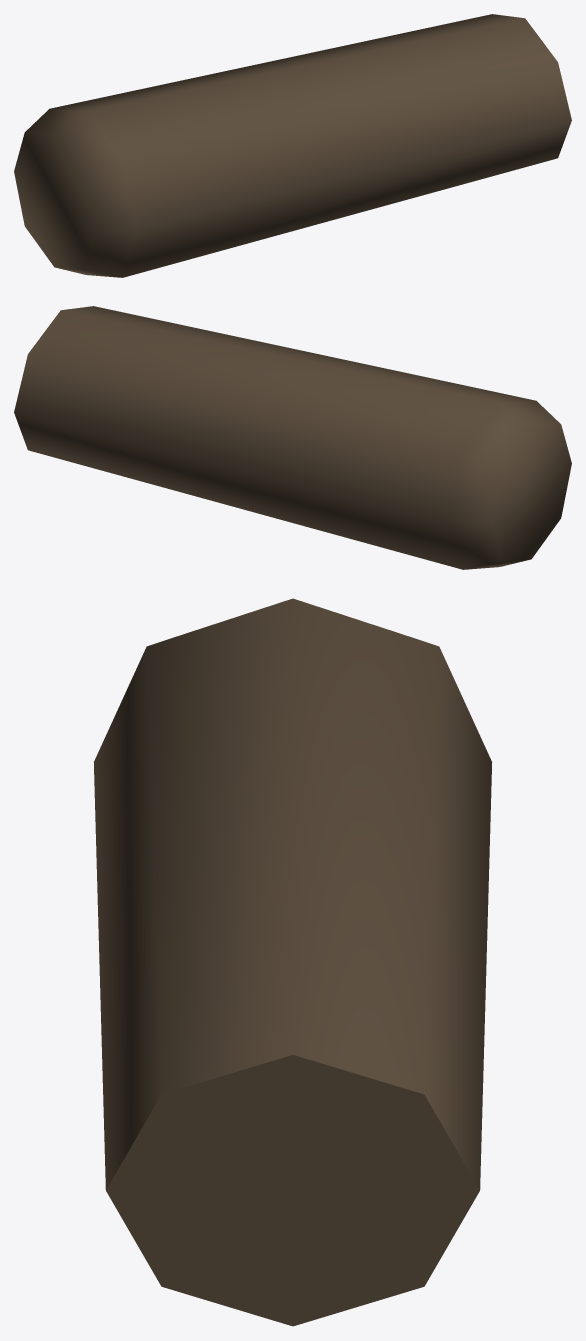
File: Entity_Slingshot-handle.FBX
3 renders of one model, top to bottom at view 1: azimuth 30°, elevation 25°; view 2: azimuth 150°, elevation 25°; view 3: azimuth 270°, elevation 25°, orthographic. The views are drawn at different scales.
Parts seen in each view (by area): view 1: Object001; view 2: Object001; view 3: Object001.
Boxes of the visible parts, x1,y1,x2,y2 form: Object001: [14, 14, 571, 277]; Object001: [14, 306, 571, 569]; Object001: [93, 598, 492, 1326].
Size of the model in its own units: 73.42 by 24.36 by 26.9.
